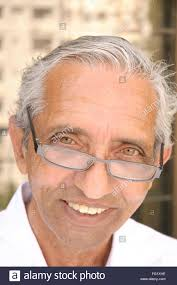Glasses: (17, 112, 172, 188)
